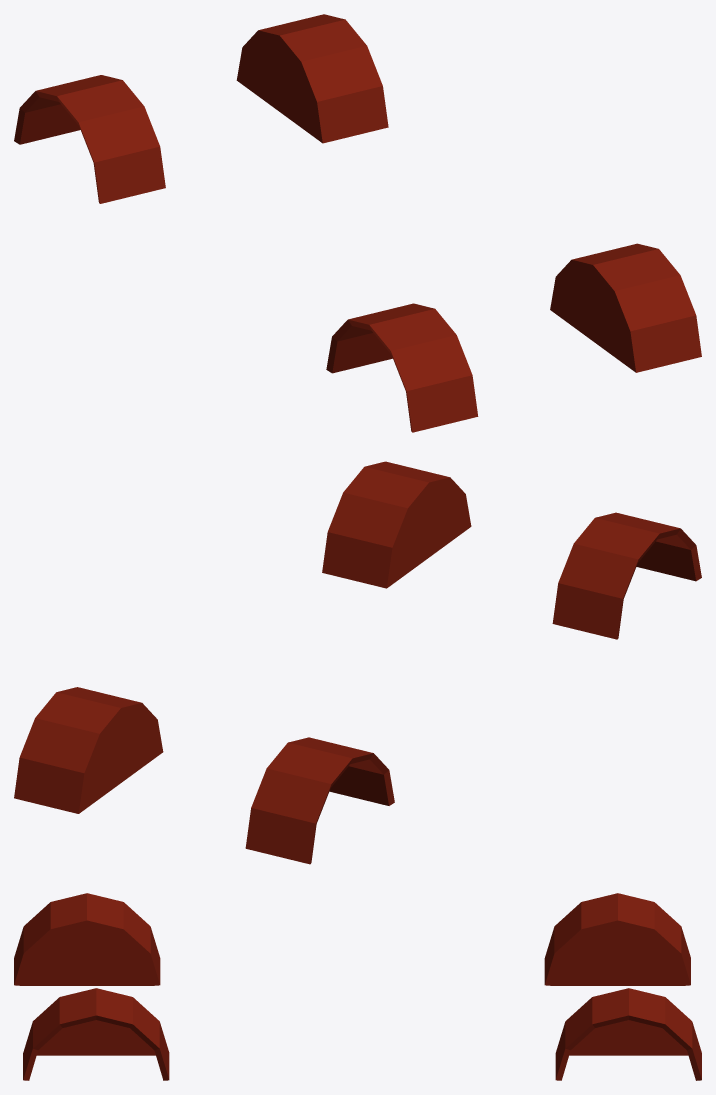
Rendered from wheelGuards2.glb.
The picture shows the model from 3 angles, top to bottom: view 1: azimuth 30°, elevation 25°; view 2: azimuth 150°, elevation 25°; view 3: azimuth 270°, elevation 25°; orthographic projection. The views are drawn at different scales.
Visible parts, largest first — view 1: wheelGuards2; view 2: wheelGuards2; view 3: wheelGuards2.
Boxes of the visible parts, left/top/right/bottom form: wheelGuards2: left=14, top=14, right=701, bottom=432; wheelGuards2: left=14, top=461, right=701, bottom=864; wheelGuards2: left=14, top=893, right=701, bottom=1080.
Bounding box in the file's own units: 2.94 × 0.7453 × 7.
1 material, 1 textured.
